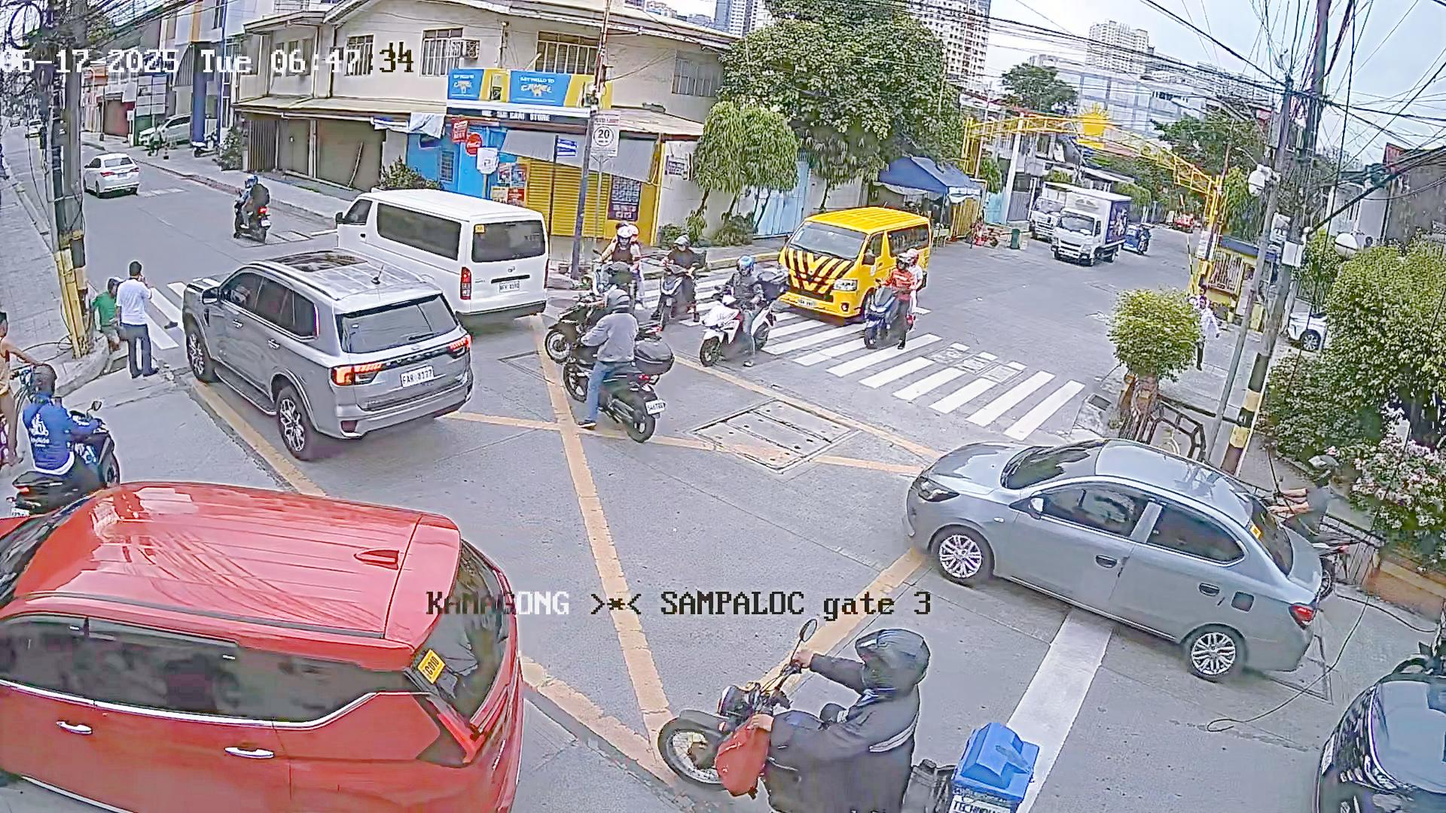Car: (0, 441, 557, 813), (866, 405, 1362, 698), (146, 235, 518, 473), (321, 164, 575, 350), (1258, 633, 1446, 813), (762, 181, 952, 324), (1054, 173, 1136, 296), (77, 144, 163, 207)
Motor: (609, 551, 1106, 813), (521, 252, 699, 440), (1238, 411, 1394, 602), (648, 214, 746, 336), (689, 253, 786, 374), (545, 255, 667, 341), (217, 164, 317, 263), (590, 192, 666, 306)
